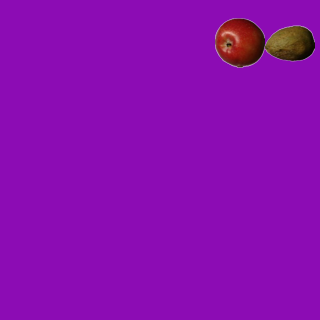Apple Braeburn: (214, 17, 264, 67)
Papaya: (264, 18, 314, 68)
